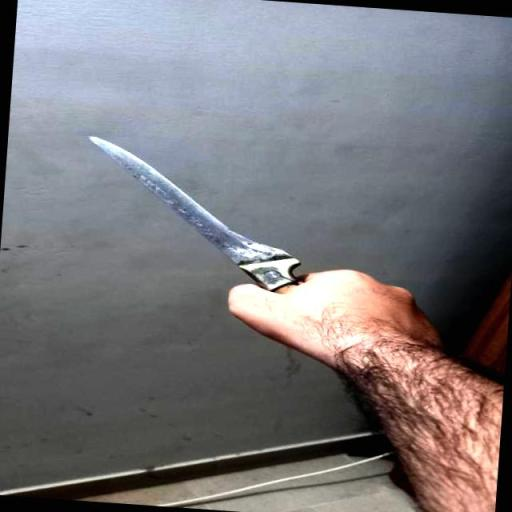knife: (80, 136, 316, 294)
